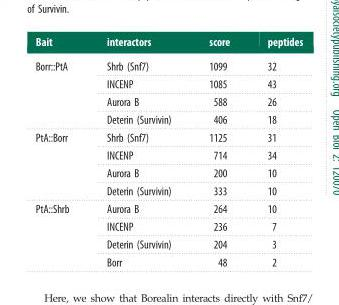table: (34, 34, 302, 268)
table column: (87, 34, 189, 268), (189, 34, 248, 268), (248, 34, 302, 268), (34, 34, 87, 268)
table column header: (34, 34, 302, 53)
table row: (34, 53, 302, 74), (34, 34, 302, 53), (34, 74, 302, 92), (34, 92, 302, 110), (34, 110, 302, 128), (34, 145, 302, 163), (34, 163, 302, 181), (34, 181, 302, 199), (34, 199, 302, 217), (34, 217, 302, 235), (34, 128, 302, 145), (34, 235, 302, 252), (34, 252, 302, 268)
table spanning cell: (34, 53, 87, 128), (34, 128, 87, 199), (34, 199, 87, 268)
